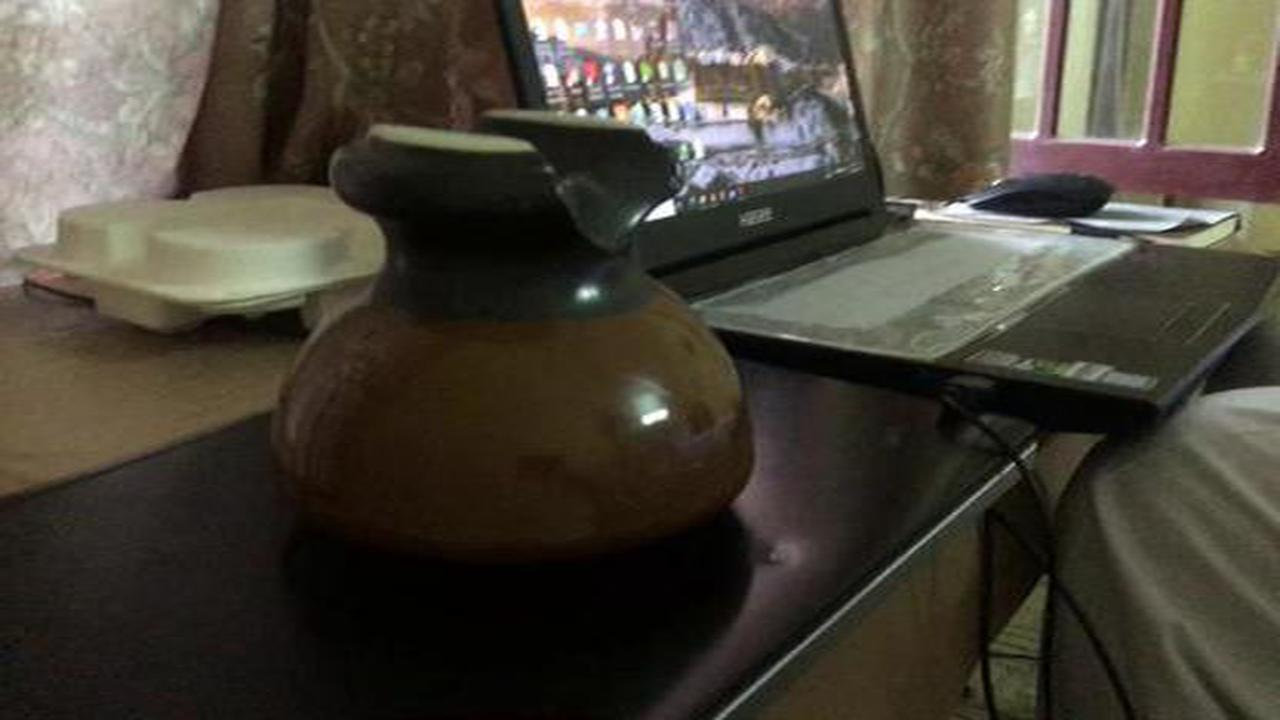insulator_pin: (244, 97, 776, 573)
